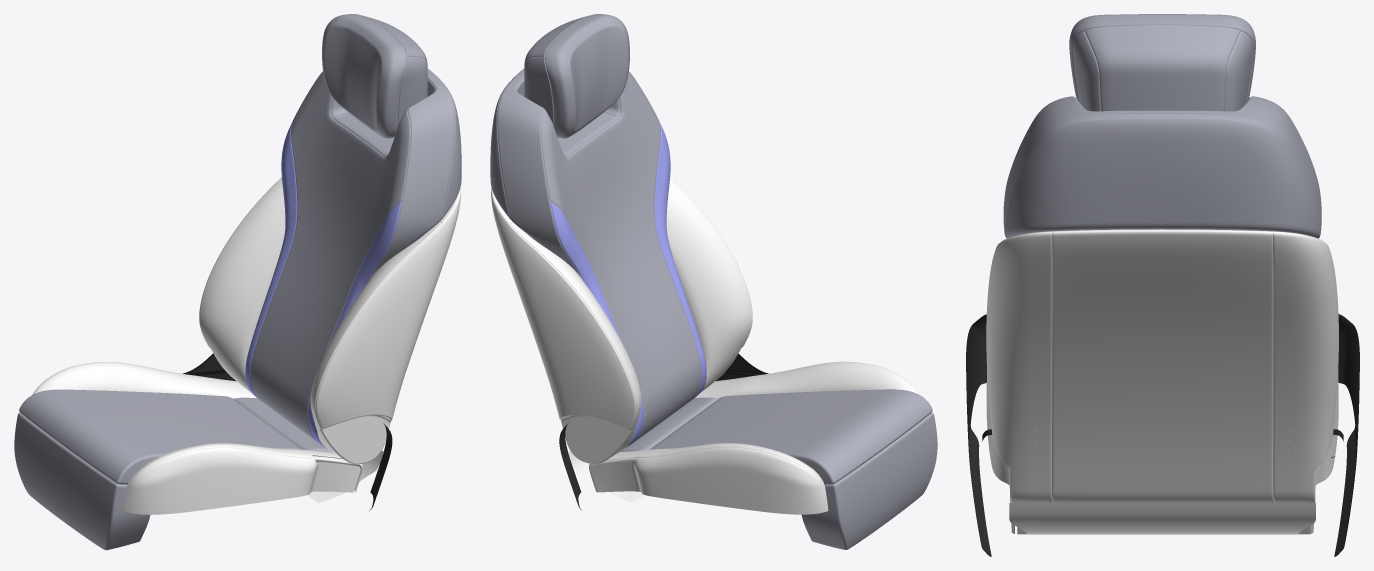
File: seat1.glb
The picture shows the model from 3 angles, left to right: view 1: azimuth 30°, elevation 25°; view 2: azimuth 150°, elevation 25°; view 3: azimuth 270°, elevation 25°; orthographic projection. The views are drawn at different scales.
Visible parts, largest first — view 1: Surface.001, Surface.002, Surface.004, Surface.006, Surface.007, Blend_piece#207, Surface1, Surface, Blend_piece#291, Surface.005, Surface.003, AAAAAA_13#20626 (+2 smaller); view 2: Surface.001, Surface.002, Surface.004, Surface.006, Surface.007, Blend_piece#207, Surface.003, Surface, Blend_piece#291, Surface.005, Surface1, AAAAAA_13#20597 (+2 smaller); view 3: Surface.002, Surface.001, Blend_piece#291, AAAAAA_1#4707, AAAAAA_13#20626, AAAAAA_13#20597, Blend_piece#207, Surface.006.
Part boxes in pixels (x1,y1,x2,y2): Surface.001: [250, 68, 461, 442]; Surface.002: [199, 177, 460, 464]; Surface.004: [19, 389, 301, 484]; Surface.006: [32, 364, 362, 514]; Surface.007: [14, 412, 150, 550]; Blend_piece#207: [322, 14, 406, 138]; Surface1: [34, 362, 256, 398]; Surface: [245, 123, 401, 448]; Blend_piece#291: [359, 14, 427, 124]; Surface.005: [232, 397, 331, 451]; Surface.003: [127, 443, 362, 484]; AAAAAA_13#20626: [183, 353, 236, 381]; Surface.001: [490, 68, 701, 441]; Surface.002: [491, 177, 752, 464]; Surface.004: [650, 389, 932, 484]; Surface.006: [589, 365, 919, 514]; Surface.007: [801, 412, 937, 549]; Blend_piece#207: [545, 14, 629, 138]; Surface.003: [695, 361, 917, 398]; Surface: [550, 123, 706, 447]; Blend_piece#291: [524, 15, 591, 124]; Surface.005: [620, 397, 719, 451]; Surface1: [589, 443, 824, 484]; AAAAAA_13#20597: [715, 353, 768, 381]; Surface.002: [986, 229, 1338, 502]; Surface.001: [1003, 96, 1321, 238]; Blend_piece#291: [1072, 25, 1252, 111]; AAAAAA_1#4707: [1009, 503, 1315, 534]; AAAAAA_13#20626: [1333, 314, 1359, 556]; AAAAAA_13#20597: [966, 314, 992, 556]; Blend_piece#207: [1069, 14, 1255, 101]; Surface.006: [986, 371, 1338, 534].
Bounding box in the file's own units: 0.8577 × 0.9415 × 0.5707.
